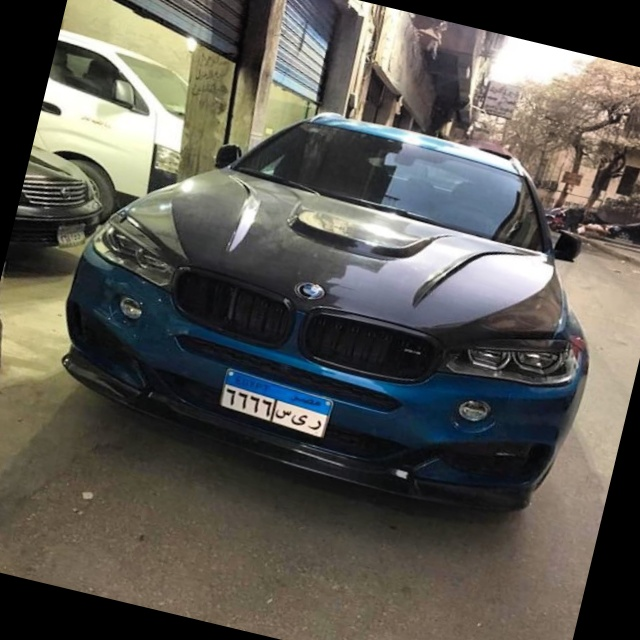License Plate: (214, 366, 337, 442)
